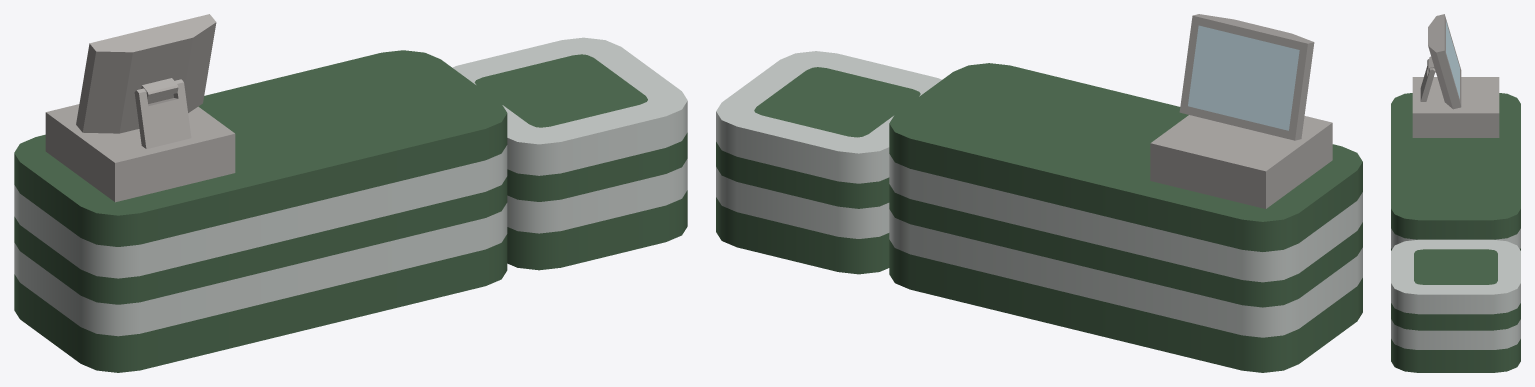
The model's file is Counter06.fbx.
3 views of the same model, side by side, from view 1: azimuth 30°, elevation 25°; view 2: azimuth 150°, elevation 25°; view 3: azimuth 270°, elevation 25° (orthographic). The views are drawn at different scales.
Visible parts, largest first — view 1: Table_Large, Table_Small, CashRegister; view 2: Table_Large, Table_Small, CashRegister; view 3: Table_Small, Table_Large, CashRegister.
Boxes of the visible parts, x1,y1,x2,y2 form: Table_Large: [14, 50, 507, 372]; Table_Small: [452, 37, 687, 270]; CashRegister: [45, 14, 235, 202]; Table_Large: [889, 63, 1362, 372]; Table_Small: [716, 51, 941, 274]; CashRegister: [1150, 14, 1332, 208]; Table_Small: [1391, 239, 1520, 372]; Table_Large: [1391, 93, 1520, 250]; CashRegister: [1412, 14, 1499, 137].
Size of the model in its own units: 4 by 1.89 by 1.2.
Materials: 1 (1 with a texture image).
